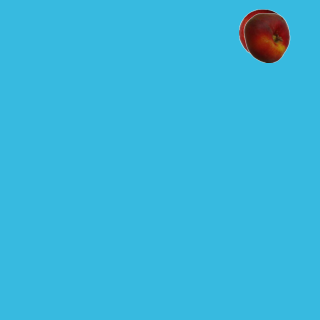Apple Braeburn: (238, 8, 288, 58)
Nectarine Flat: (241, 12, 291, 62)
